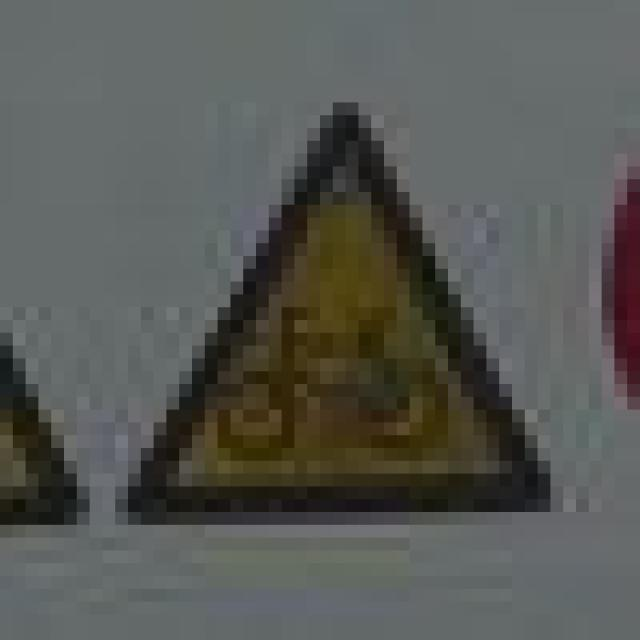cycle_crossing: (115, 90, 550, 499)
